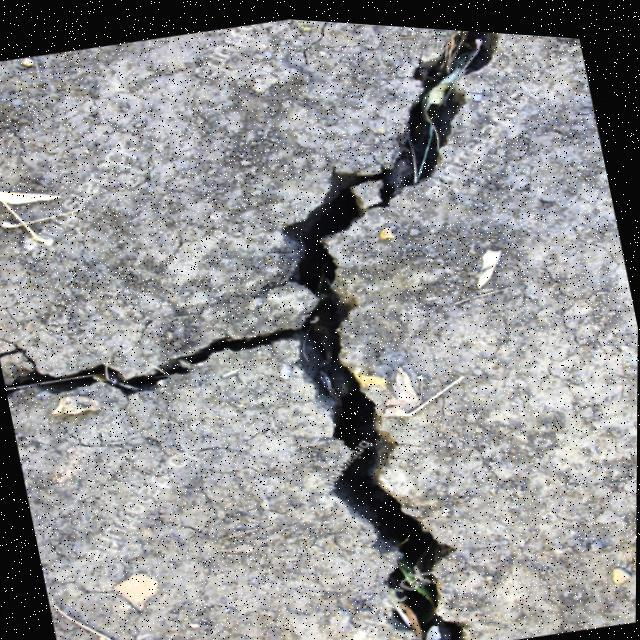branched cracks: (0, 31, 496, 639)
